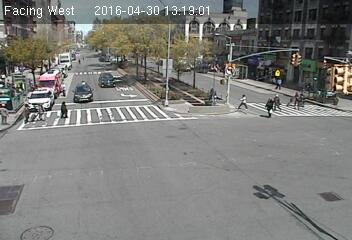neg: (9, 171, 42, 215), (250, 176, 280, 215), (165, 56, 190, 90), (321, 63, 346, 97), (175, 181, 200, 214), (172, 110, 196, 143), (40, 41, 62, 70), (58, 159, 80, 187), (305, 154, 326, 182), (97, 110, 117, 136), (93, 68, 112, 93), (326, 188, 344, 213), (130, 67, 147, 90), (284, 45, 301, 68), (225, 151, 241, 172), (129, 166, 144, 185), (133, 30, 147, 49), (234, 38, 246, 54)
pos: (255, 95, 274, 120), (233, 90, 250, 113), (59, 99, 74, 119), (18, 103, 33, 123), (36, 105, 48, 121), (273, 92, 284, 107)
